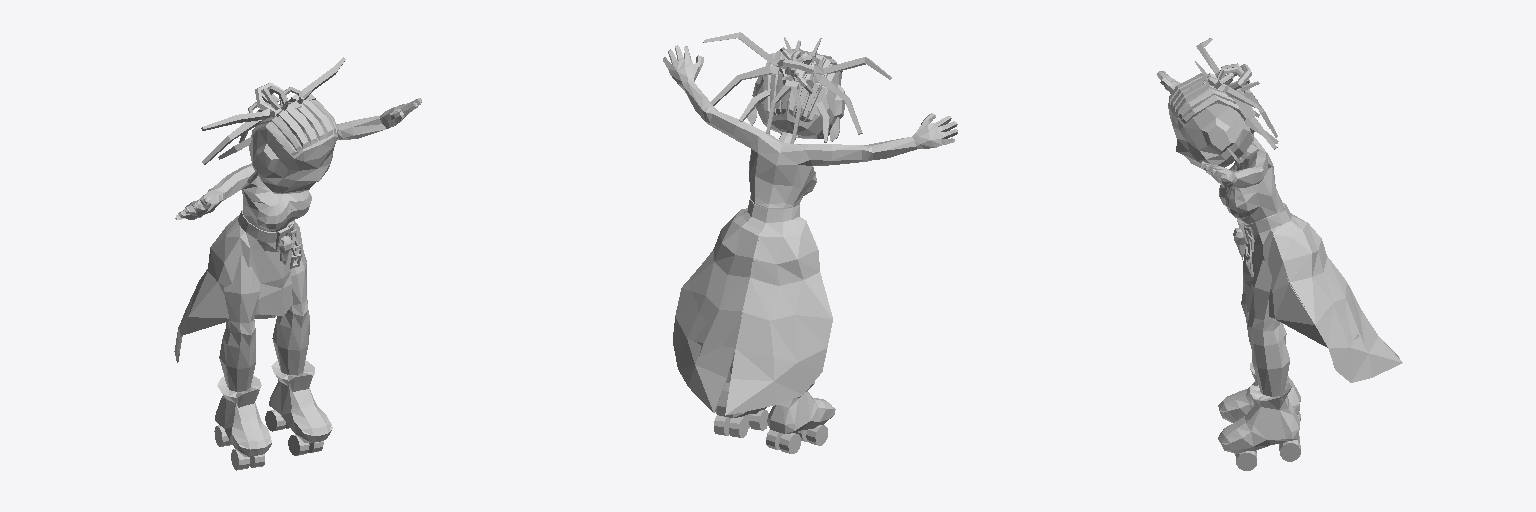
Rendered from bruja_000126.obj.
3 renders of one model, left to right at view 1: azimuth 30°, elevation 25°; view 2: azimuth 150°, elevation 25°; view 3: azimuth 270°, elevation 25°, orthographic.
Parts seen in each view (by area): view 1: Bruja_Plane.001; view 2: Bruja_Plane.001; view 3: Bruja_Plane.001.
Boxes of the visible parts, x1=… form: Bruja_Plane.001: x1=174, y1=57, x2=421, y2=470; Bruja_Plane.001: x1=663, y1=32, x2=957, y2=453; Bruja_Plane.001: x1=1157, y1=38, x2=1402, y2=470.
Size of the model in its own units: 11.73 by 16.19 by 9.34.